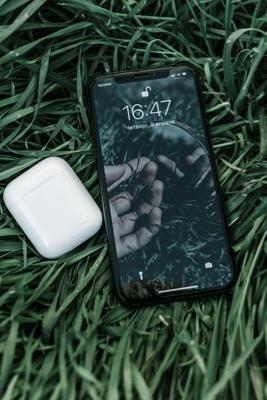cell-phone: (83, 60, 238, 306)
